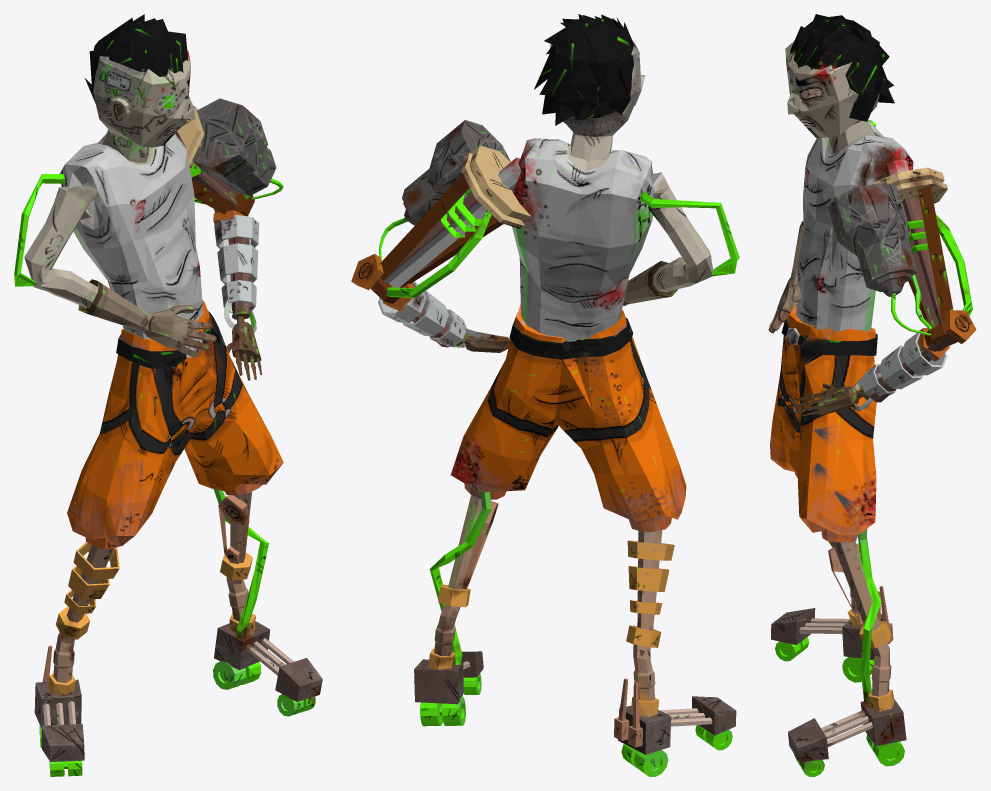
File: CyborgFINALAnimation_000075.obj
3 renders of one model, left to right at view 1: azimuth 30°, elevation 25°; view 2: azimuth 150°, elevation 25°; view 3: azimuth 270°, elevation 25°, orthographic. The views are drawn at different scales.
Visible parts, largest first — view 1: CyborgMesh_Cube.002; view 2: CyborgMesh_Cube.002; view 3: CyborgMesh_Cube.002.
Boxes of the visible parts, x1,y1,x2,y2 form: CyborgMesh_Cube.002: (14,14,322,776); CyborgMesh_Cube.002: (351,14,739,776); CyborgMesh_Cube.002: (768,14,976,776).
Bounding box in the file's own units: 4.33 × 9.6 × 2.62.
